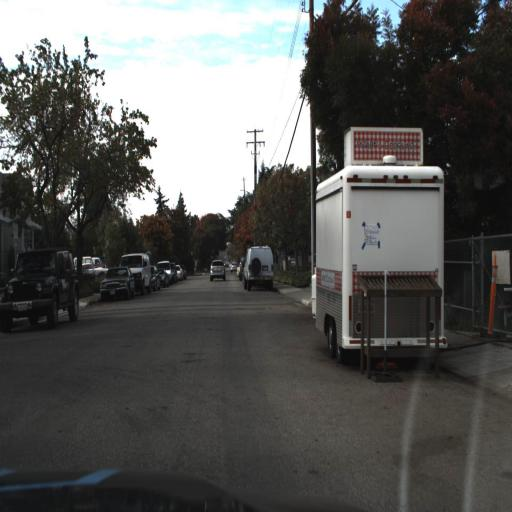car: (0, 242, 80, 329), (247, 244, 280, 298), (100, 268, 134, 299), (209, 254, 230, 286)
truck: (309, 161, 447, 351)
